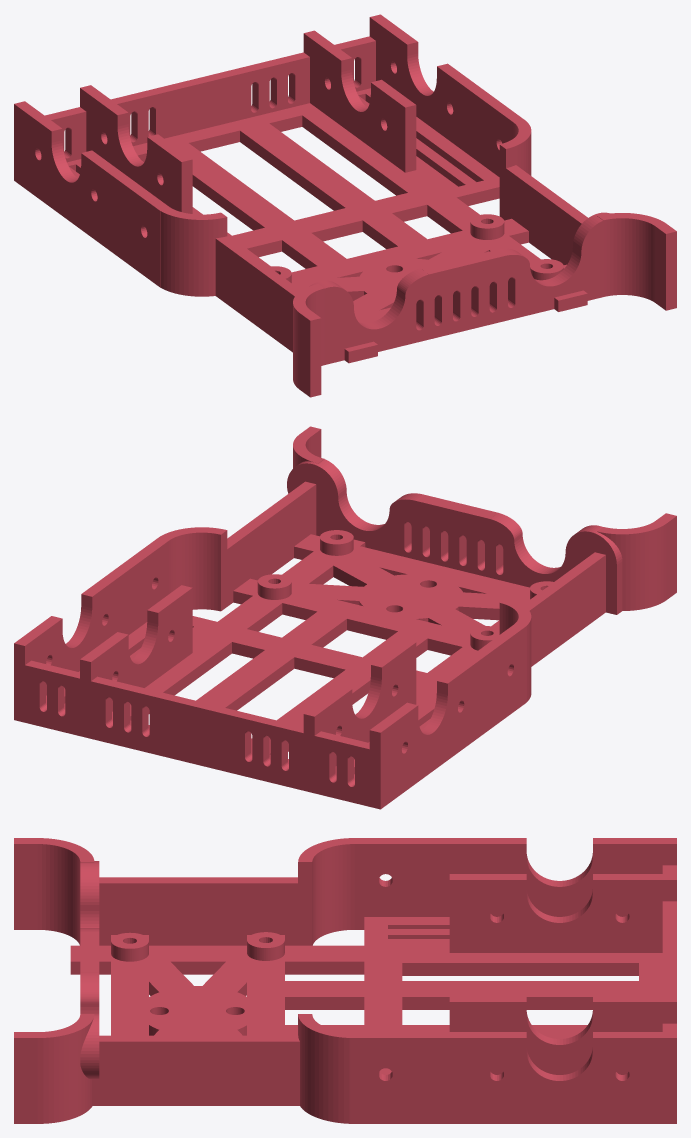
The model's file is Car-Base.glb.
3 renders of one model, top to bottom at view 1: azimuth 30°, elevation 25°; view 2: azimuth 150°, elevation 25°; view 3: azimuth 270°, elevation 25°, orthographic. The views are drawn at different scales.
Visible parts, largest first — view 1: Mesh_Mesh_head_geo.001_lambert2SG.001; view 2: Mesh_Mesh_head_geo.001_lambert2SG.001; view 3: Mesh_Mesh_head_geo.001_lambert2SG.001.
Boxes of the visible parts, left/top/right/bottom form: Mesh_Mesh_head_geo.001_lambert2SG.001: left=14, top=14, right=676, bottom=397; Mesh_Mesh_head_geo.001_lambert2SG.001: left=14, top=426, right=676, bottom=809; Mesh_Mesh_head_geo.001_lambert2SG.001: left=14, top=838, right=676, bottom=1123.
Size of the model in its own units: 100 by 20 by 140.
